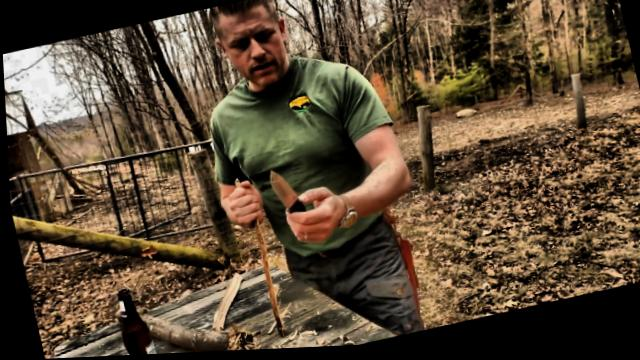knife: (255, 154, 335, 255)
